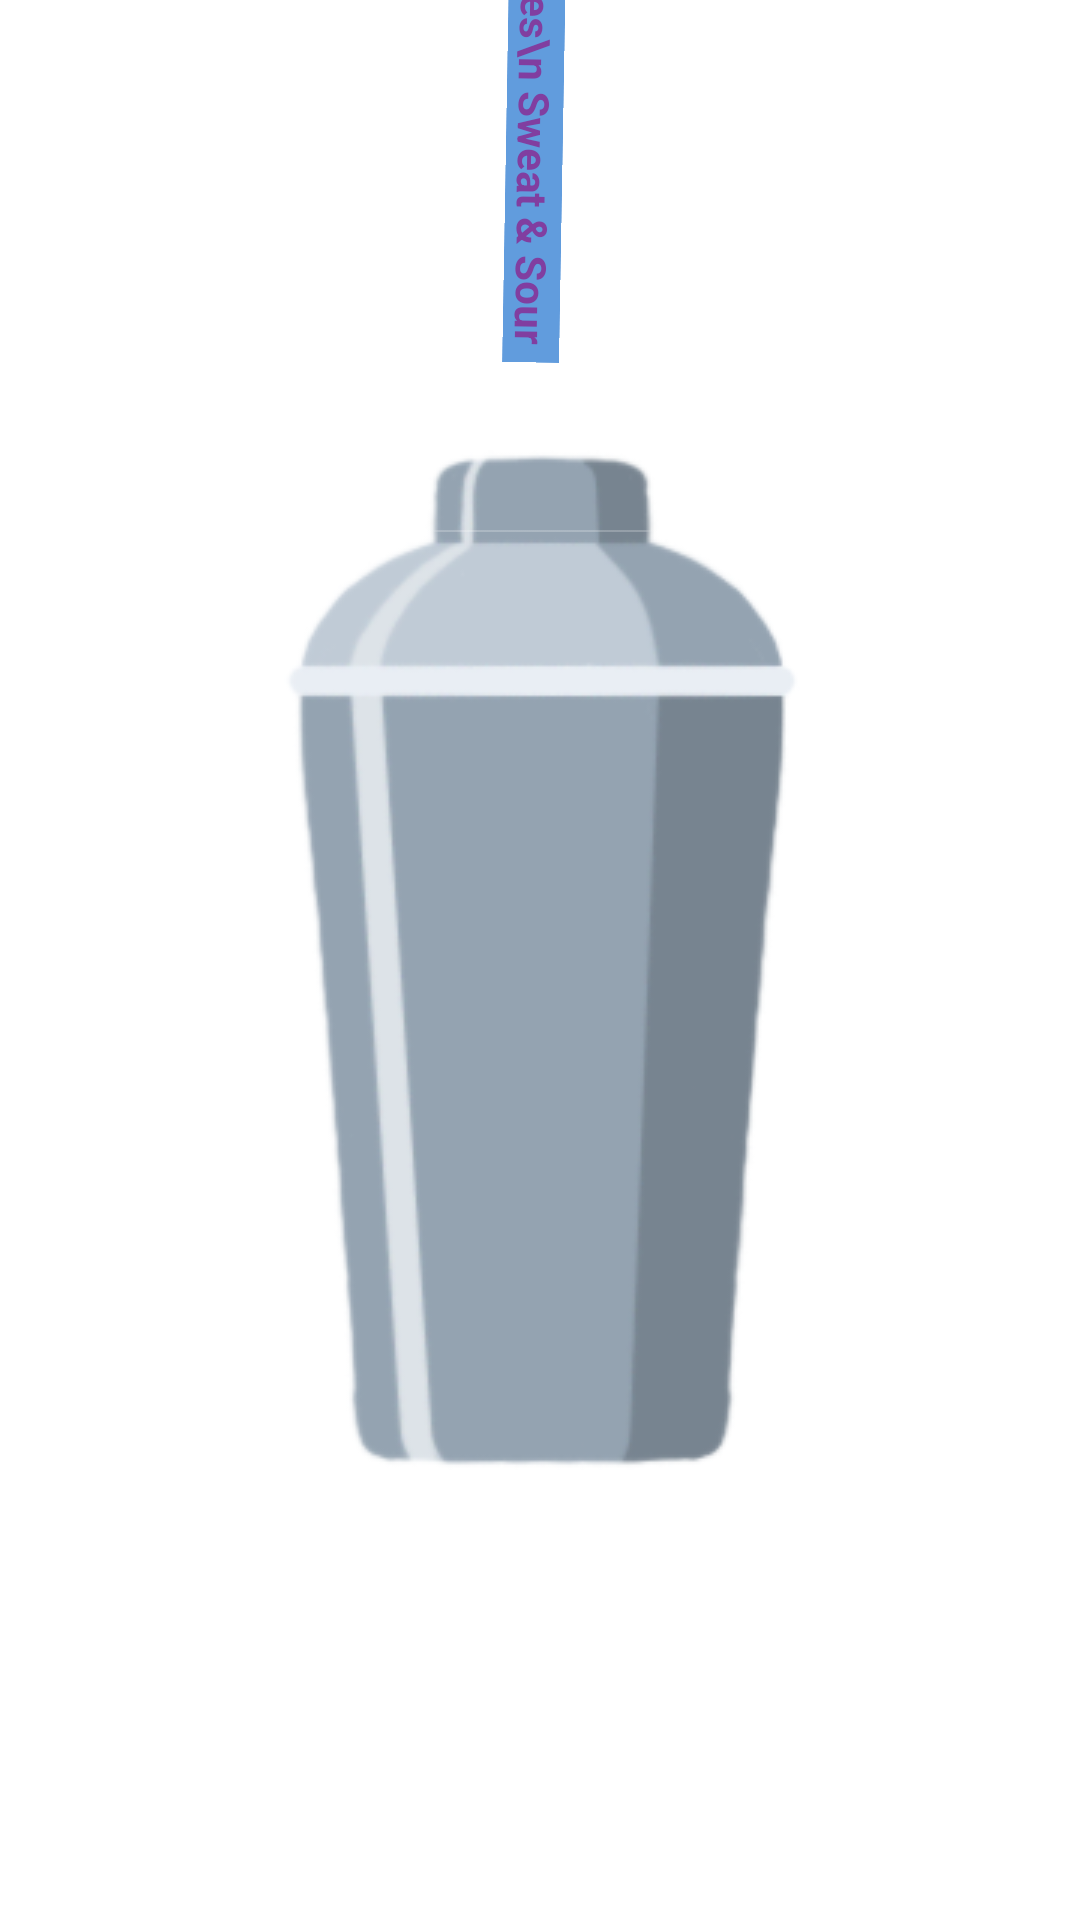

Where icons sit on this 1080 × 1920 app screen, as (x1, y1, x2, y2):
shaker closure: (424, 456, 664, 546)
